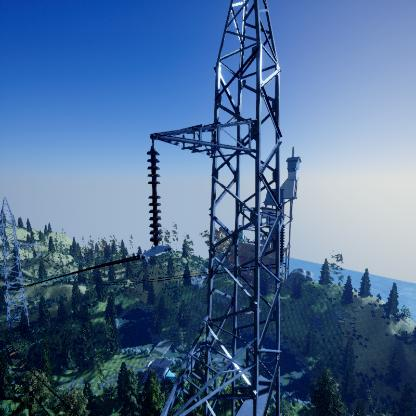insulator: (144, 148, 164, 245)
